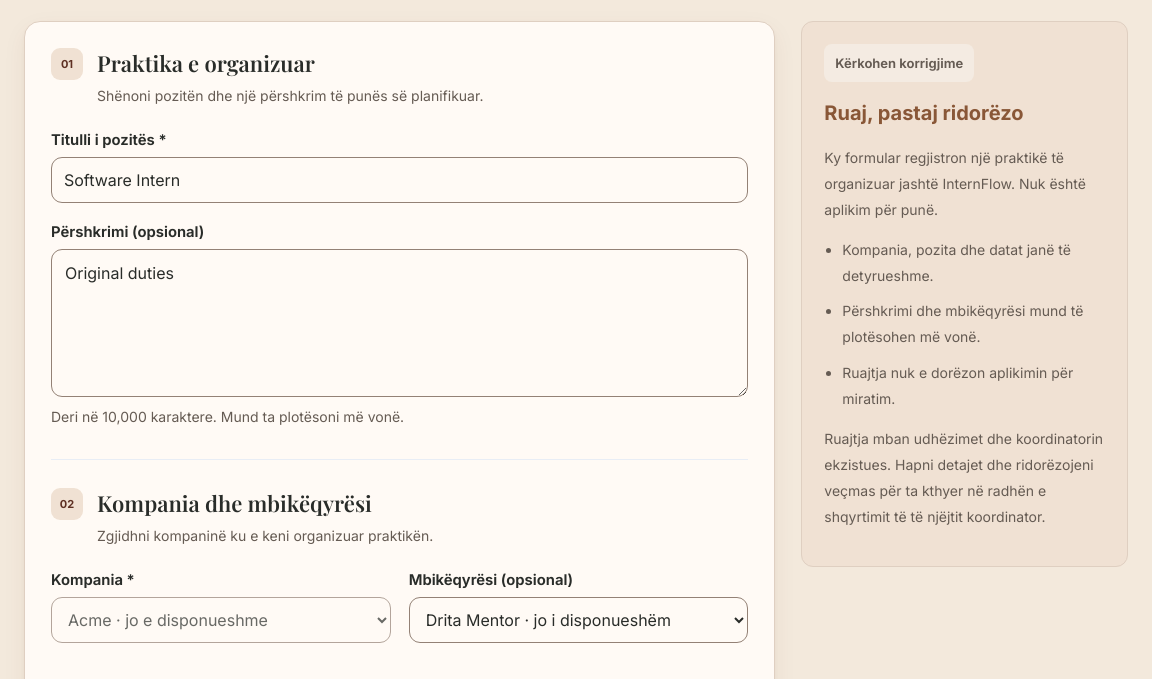
Test: preserves corrected form values and instructions on validation failure, then reloads stale edit state
The width and height of the screenshot is (1152, 679).
(page scrolled)
Replace the text in the text box labelled "Përshkrimi (opsional)" with "Saved locally" at (400, 323), box x1=51 y1=249 x2=748 y2=397
(page scrolled)
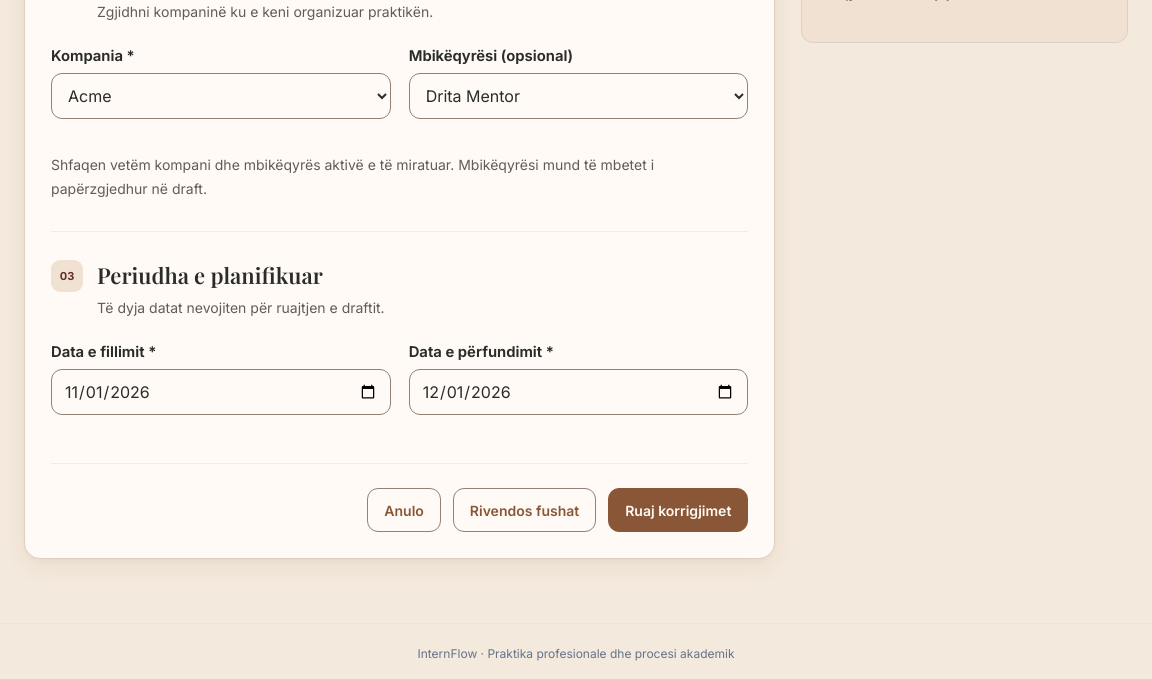
Click the button "Ruaj korrigjimet".
click(678, 510)  # box x1=608 y1=488 x2=748 y2=532
(page scrolled)
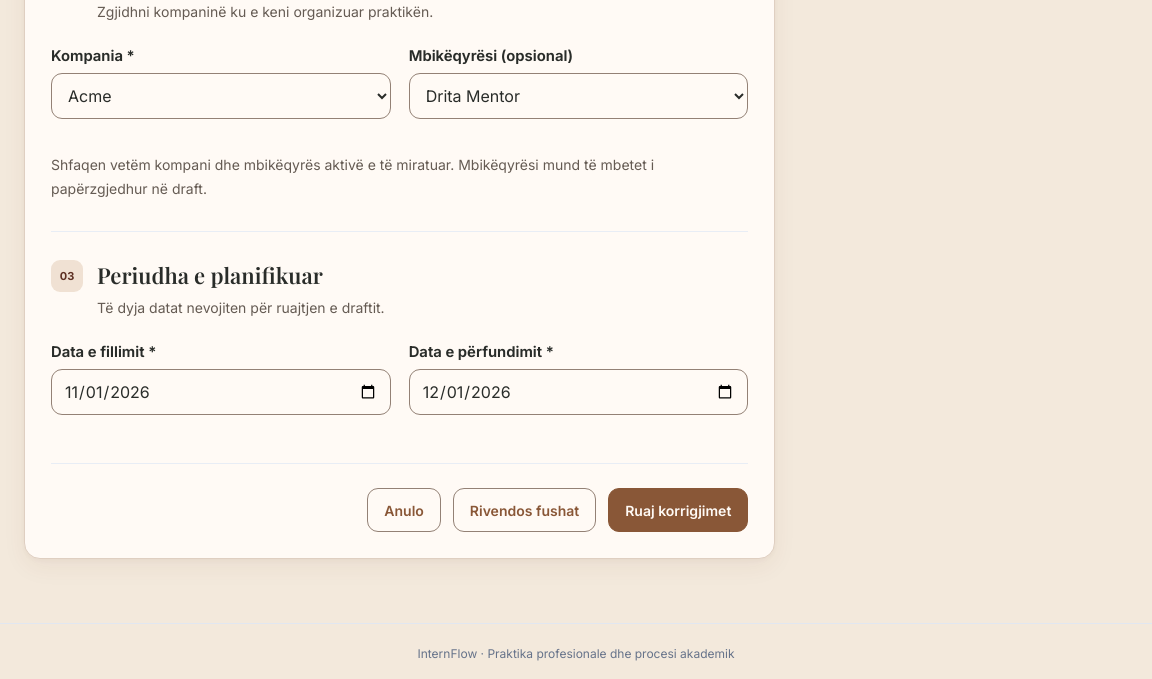
Click the button "Ruaj korrigjimet".
click(678, 510)  # box x1=608 y1=488 x2=748 y2=532
(page scrolled)
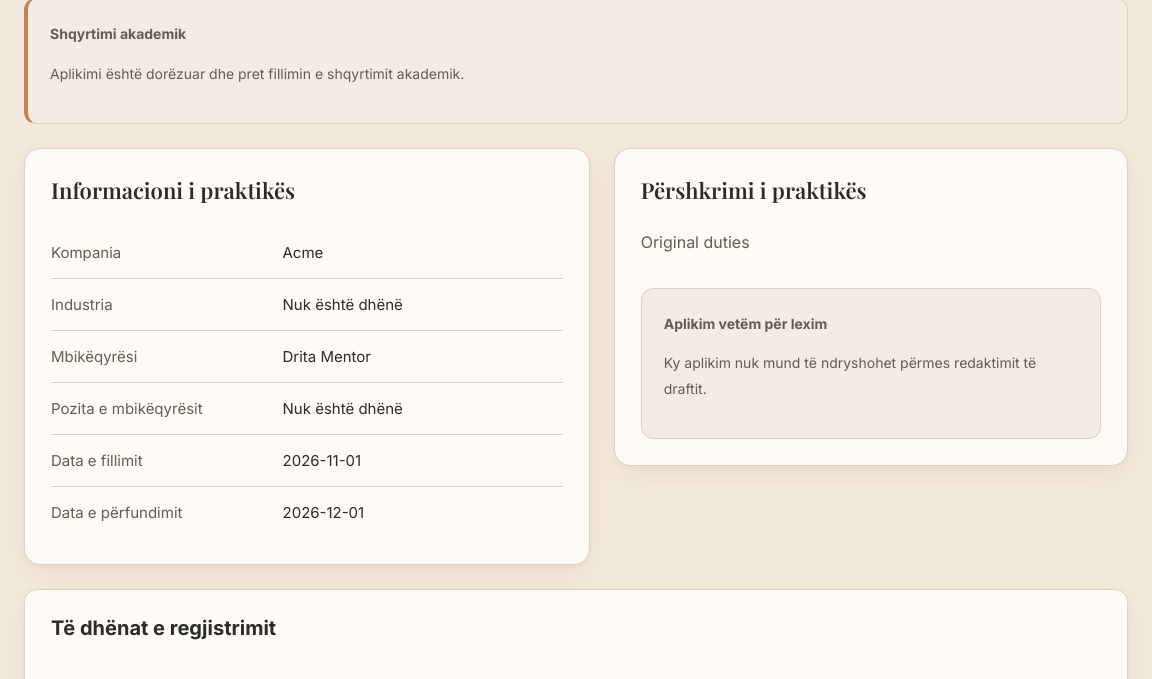
expect the text "Aplikim vetëm për lexim" is shown: met, box x1=664 y1=314 x2=827 y2=332
